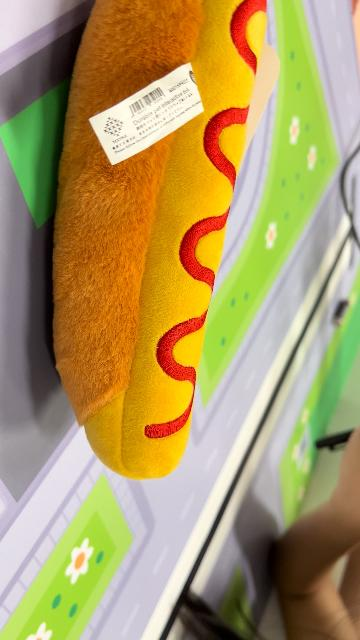hotdog: (51, 2, 271, 482)
